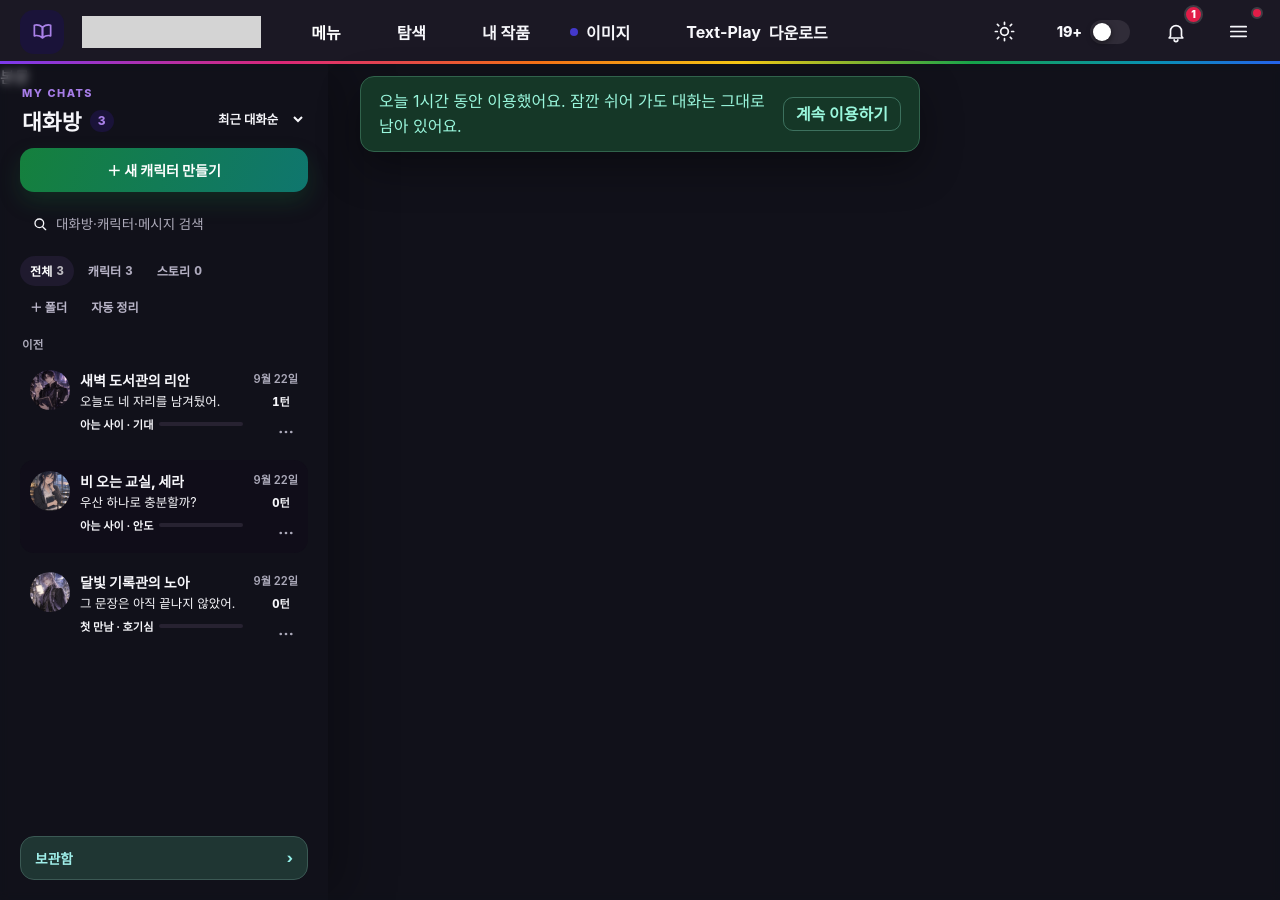
Test: 앱 셸 패널 › 60분 동안 이용하면 쉬어 가기 알림을 보여 주고 확인하면 닫는다
expect the text "오늘 1시간 동안 이용했어요. 잠깐 쉬어 가도 대화는 그대로 남아 있어요." is shown: met, box [379, 89, 769, 139]
Click the button "계속 이용하기".
click(842, 114)  # box [783, 97, 901, 131]
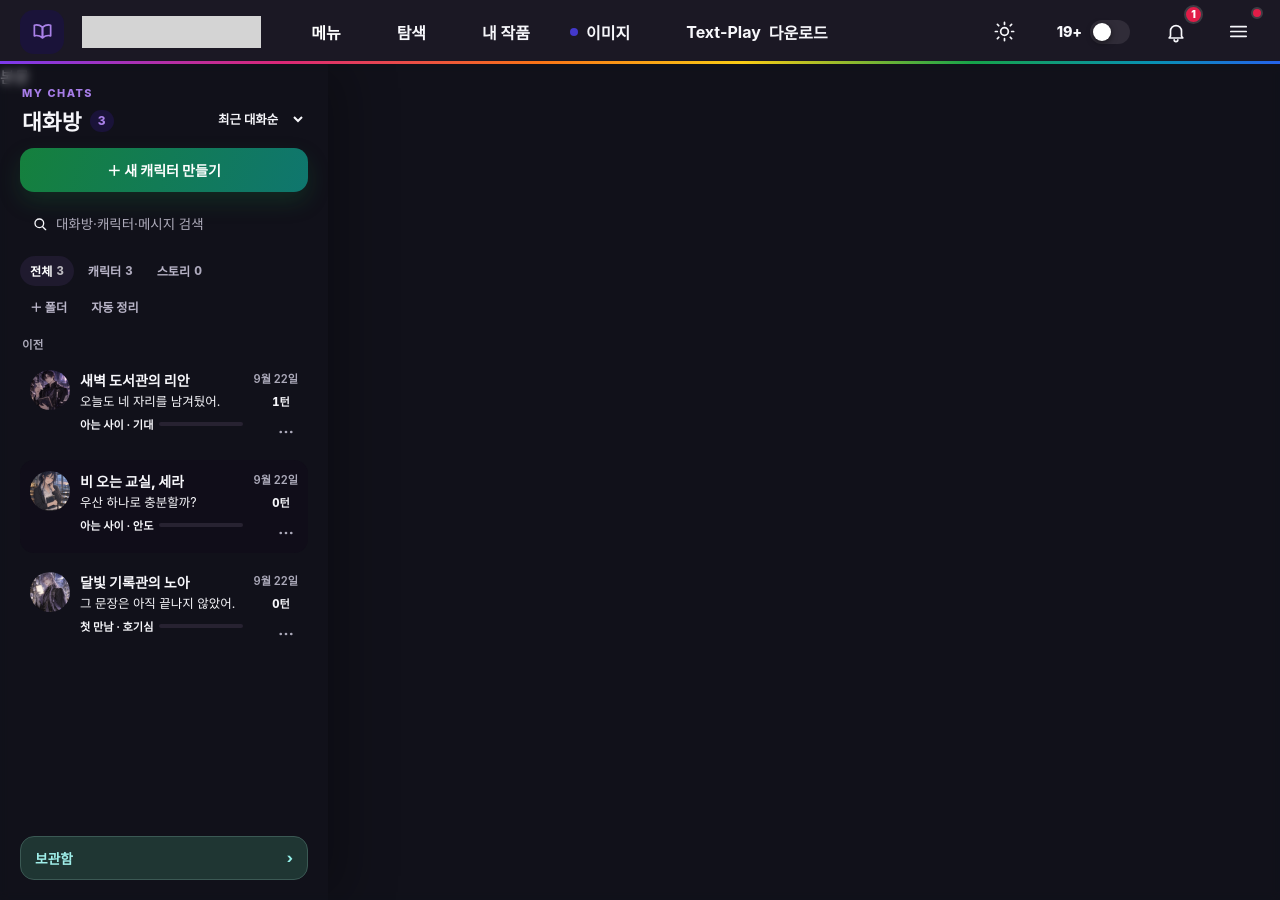
expect the text "동안 이용했어요" is gone: met
